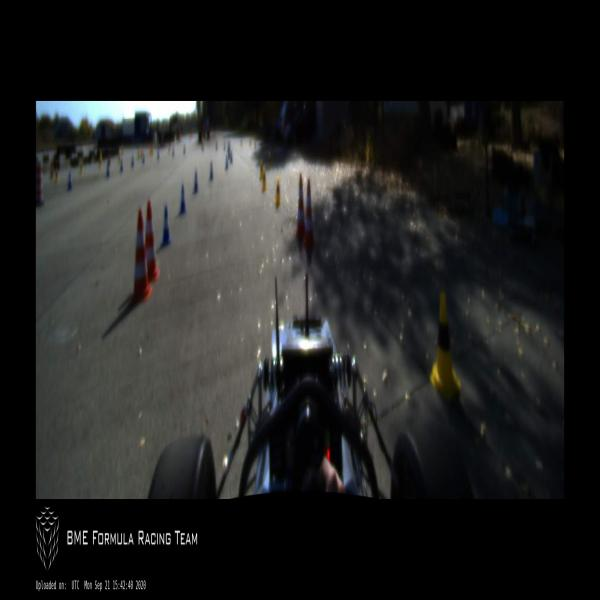blue_cone: (161, 205, 171, 246), (178, 182, 186, 215), (192, 170, 199, 195), (208, 161, 214, 181), (68, 172, 72, 190), (224, 155, 228, 170), (106, 163, 110, 177), (230, 151, 233, 163)
large_orange_cone: (130, 208, 154, 302), (145, 201, 160, 281), (304, 179, 314, 248), (294, 174, 304, 238)
yellow_cone: (429, 292, 462, 399), (275, 176, 281, 205), (262, 166, 267, 192), (259, 158, 263, 180), (54, 167, 59, 183), (268, 153, 272, 169)
